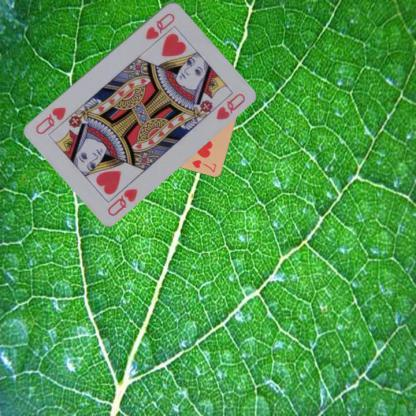Qh: (105, 186, 139, 218), (142, 10, 176, 41)
